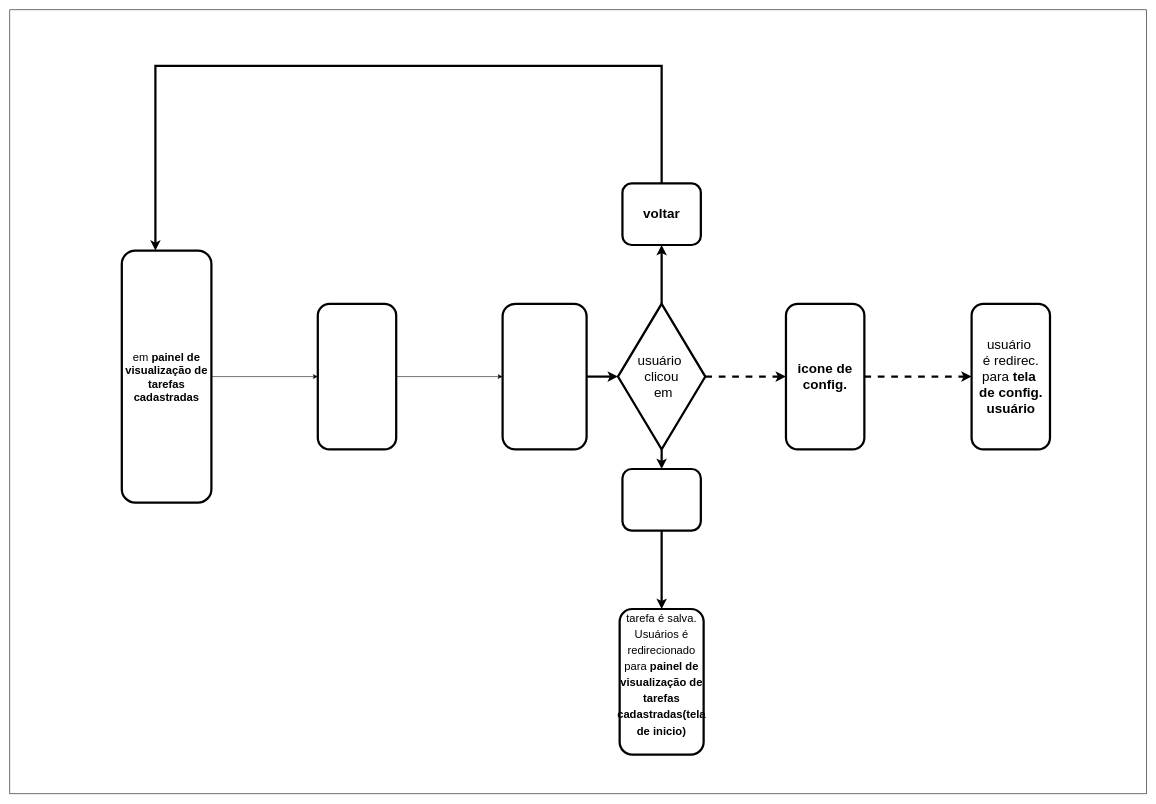
Some shapes in this 1156 by 804 pixel diagram are drawn without their labels. Here are the shapes that lost their labels. From the top down, the centre of each, then its label:
At point 356,376: "na tela ao clicar em Adcionar Tarefa".
At point 544,376: "usuários é redirecionado para Tela de Cadastro de Tarefas".
At point 661,499: "salvar".
